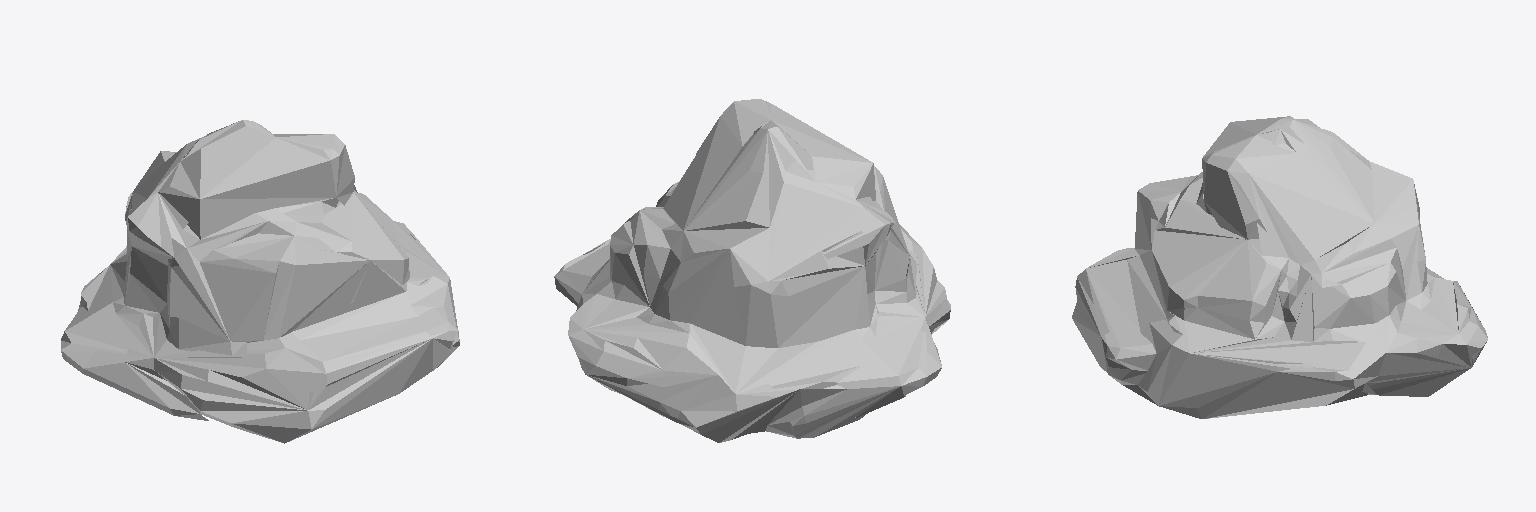
File: basicstone.obj
The picture shows the model from 3 angles: view 1: azimuth 30°, elevation 25°; view 2: azimuth 150°, elevation 25°; view 3: azimuth 270°, elevation 25°; orthographic projection.
Parts seen in each view (by area): view 1: Rock_6; view 2: Rock_6; view 3: Rock_6.
Boxes of the visible parts, <box> form: Rock_6: <box>61,120,459,443</box>; Rock_6: <box>554,99,950,442</box>; Rock_6: <box>1072,116,1487,418</box>.
Bounding box in the file's own units: 2.59 × 1.86 × 2.64.